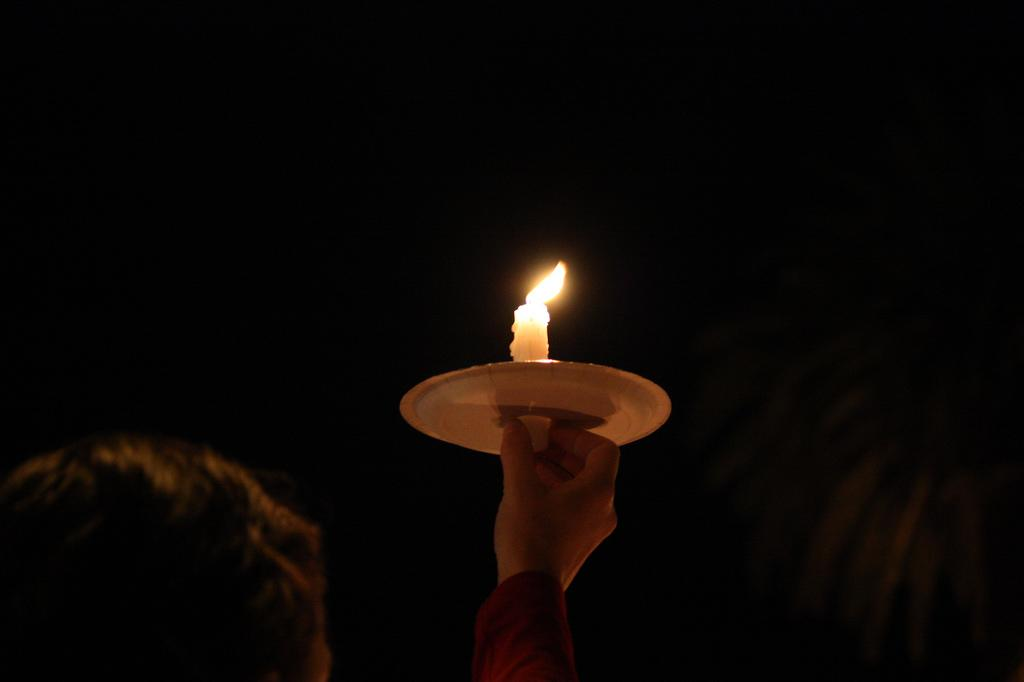fire: (528, 267, 570, 307)
